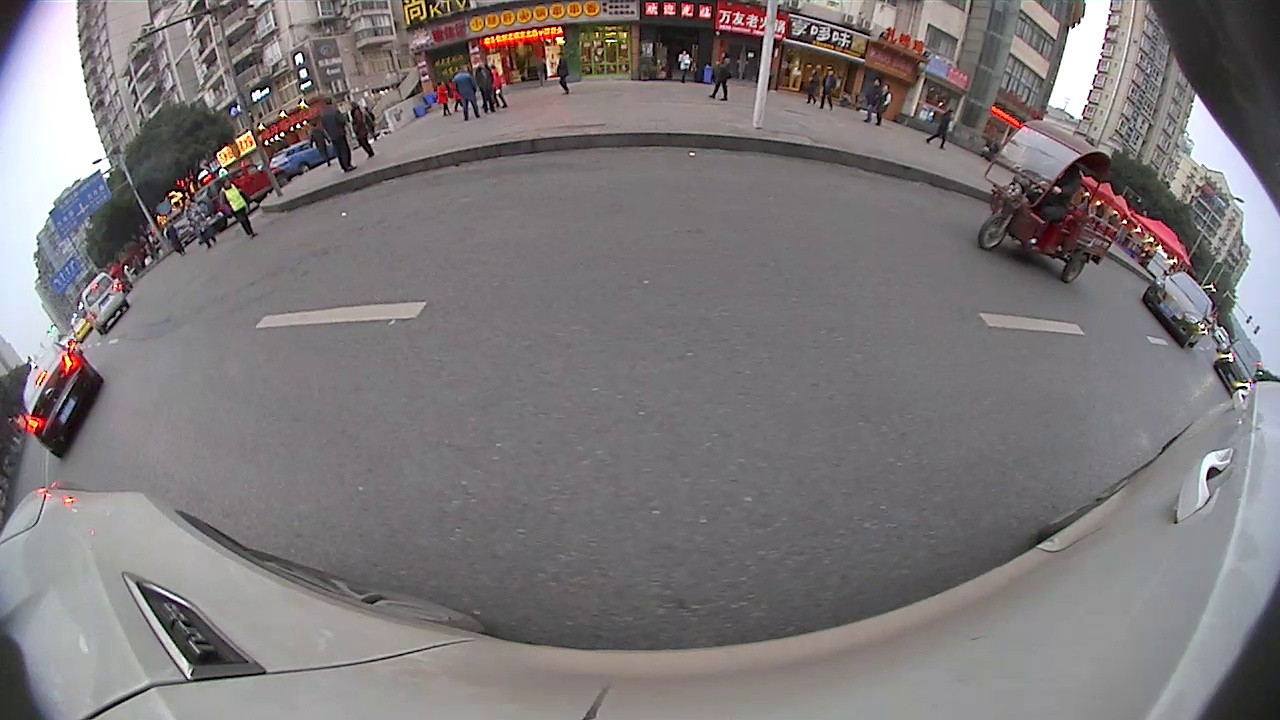car: (14, 341, 107, 464), (1142, 267, 1214, 350), (74, 269, 132, 334), (1211, 338, 1264, 391)
front: (973, 211, 1010, 252)
rear: (1060, 251, 1087, 286)
rider: (976, 116, 1127, 284)
